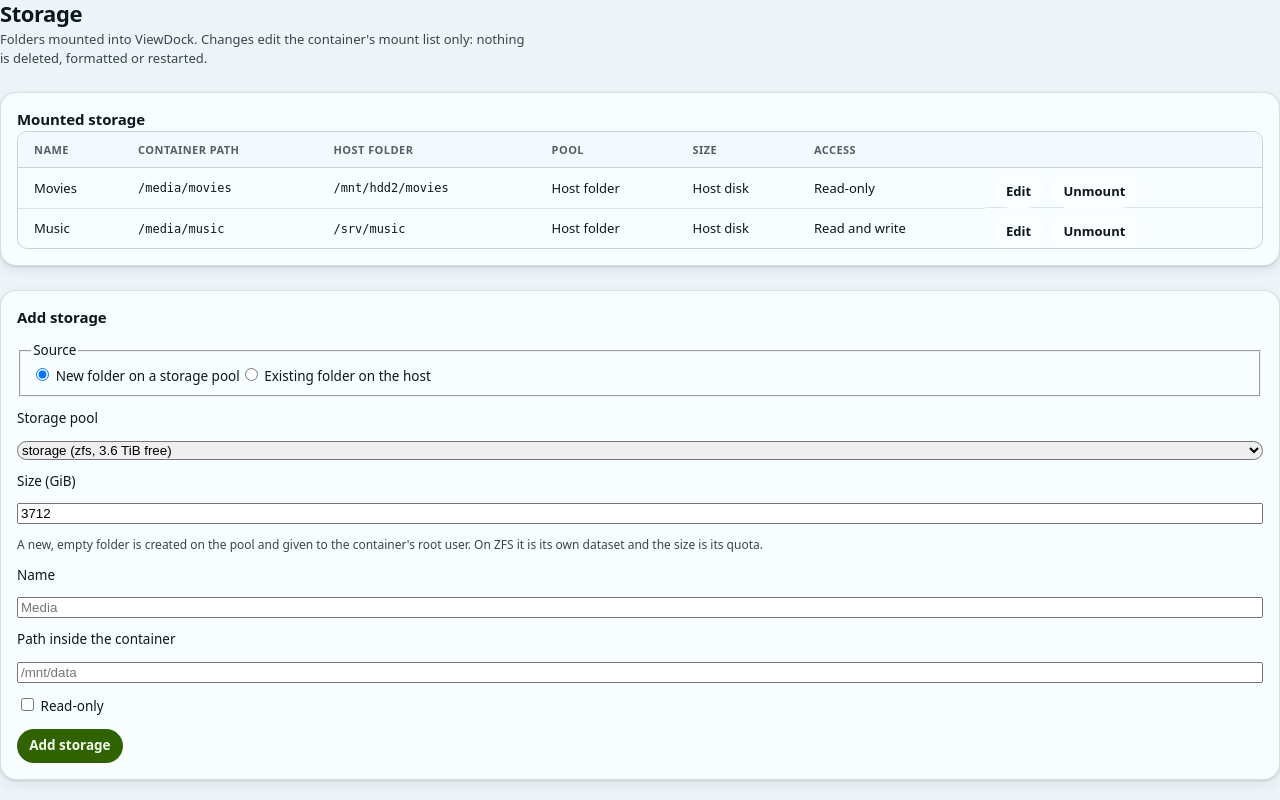
Test: WorkloadStoragePage › asks before unmounting and says the files stay
Click the button with aria-label "Unmount /media/movies" at x=1094, y=191, box x1=1051 y1=174 x2=1138 y2=208
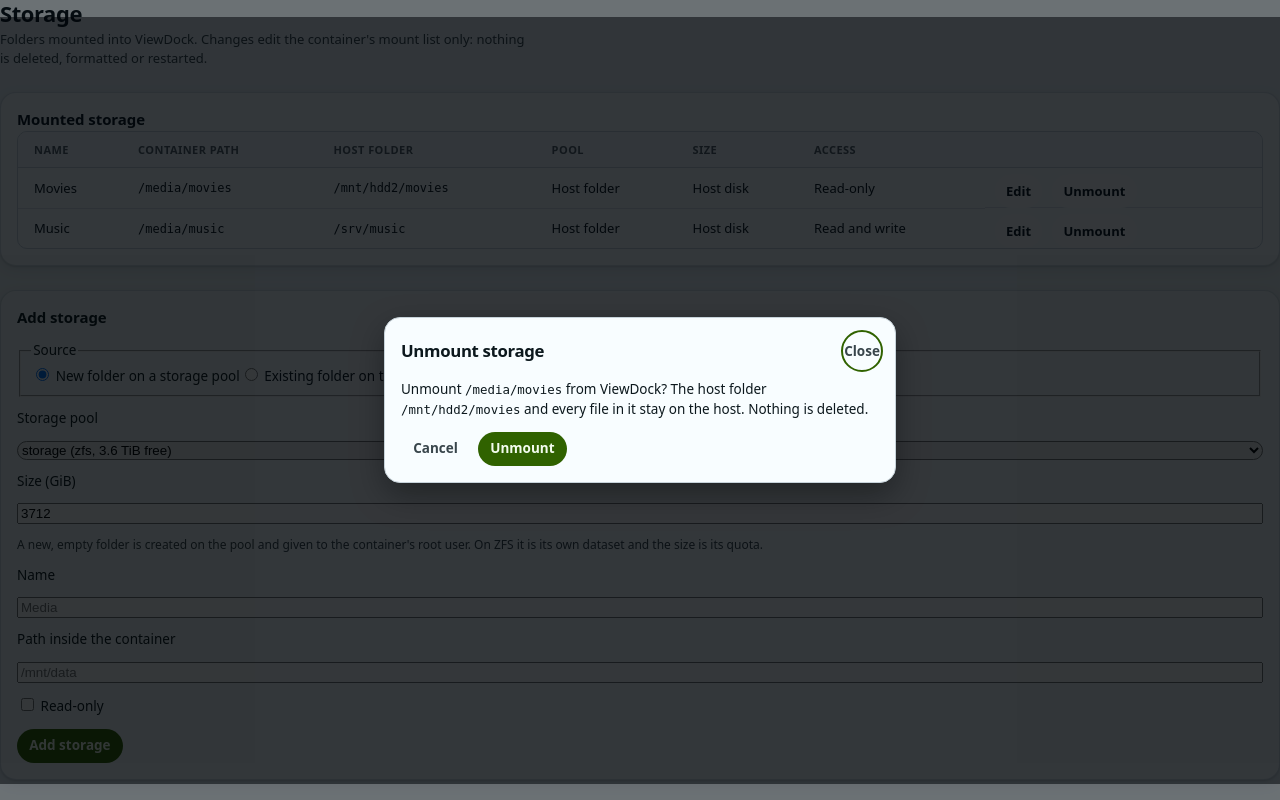
Expected: the text "nothing is deleted" is shown, x1=520 y1=400 x2=868 y2=418
Click the button "Unmount" at x=522, y=449, box x1=478 y1=432 x2=567 y2=466
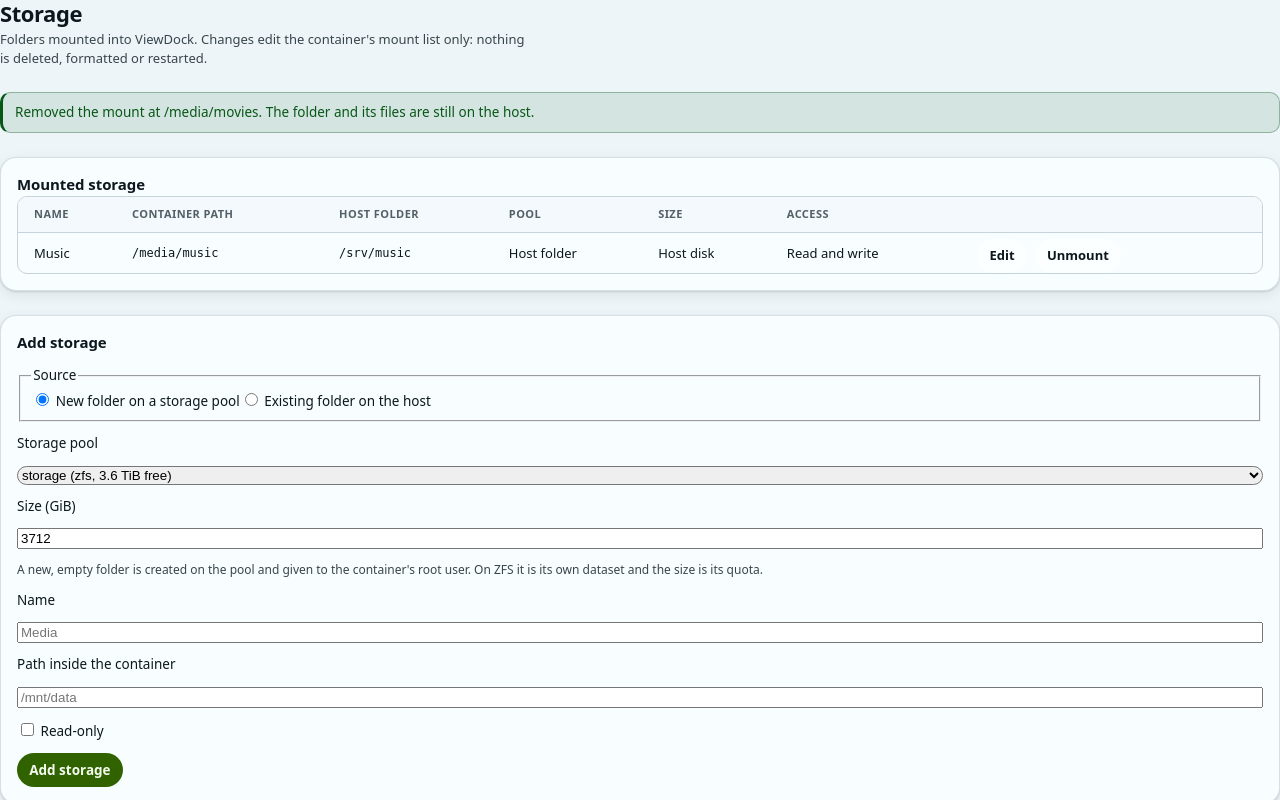
Expected: the text "still on the host" is shown, x1=15 y1=103 x2=534 y2=121
